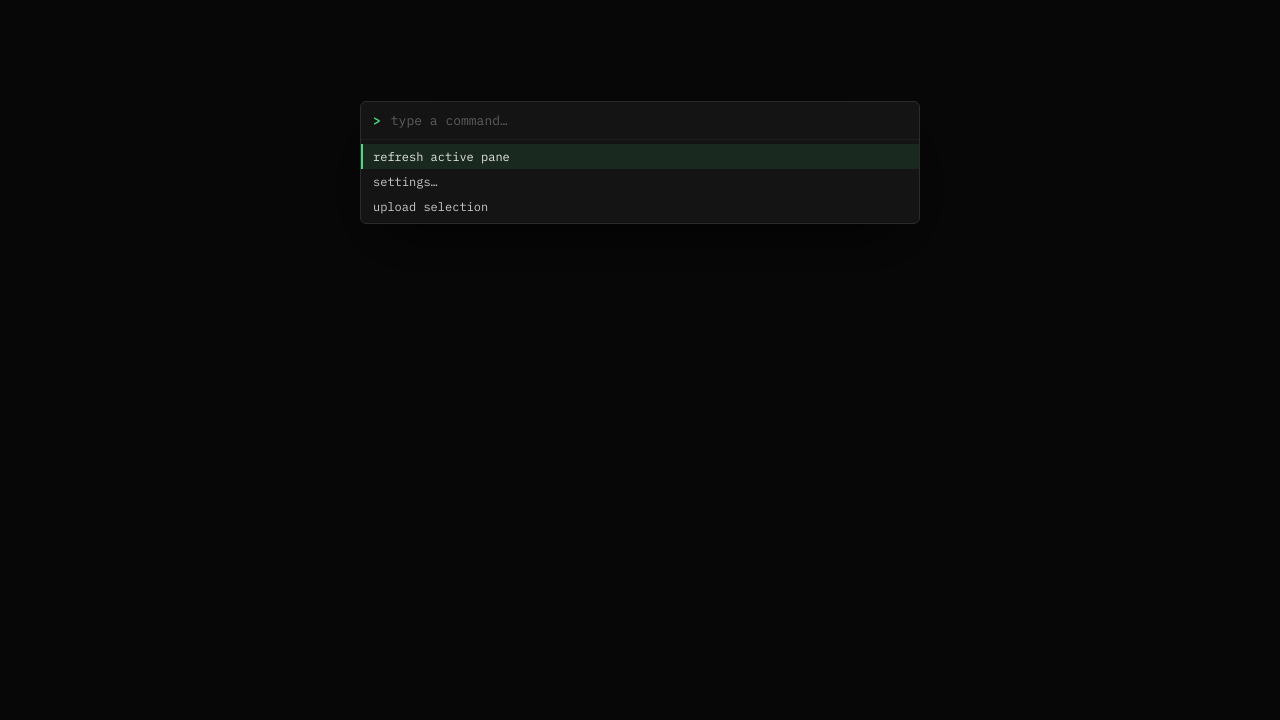
CommandPalette › renders every command and filters as the user types
The width and height of the screenshot is (1280, 720).
Check: the text "refresh active pane" is shown, box [373, 149, 510, 164]
Check: the text "settings…" is shown, box [373, 174, 438, 189]
Type "upl" into the field labelled "command" at (648, 120), box [389, 111, 907, 130]
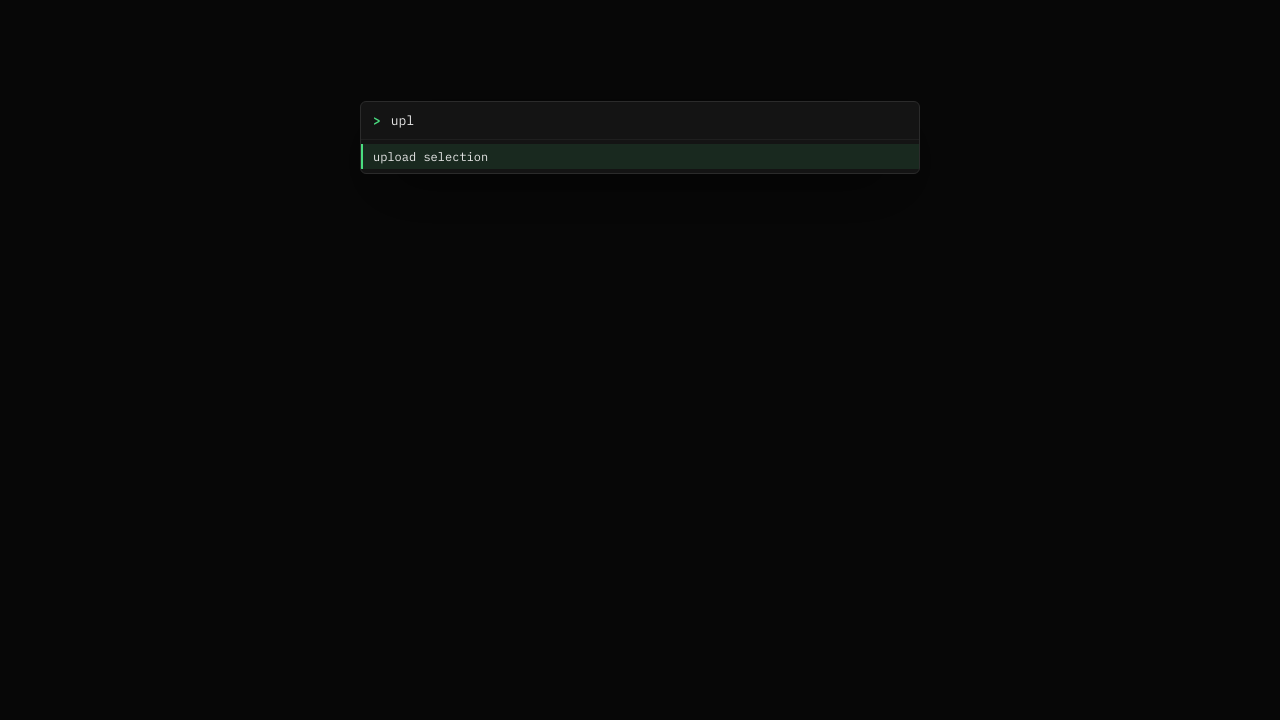
Check: the text "upload selection" is shown, box [373, 149, 488, 164]
Check: the option "refresh active pane" is gone
